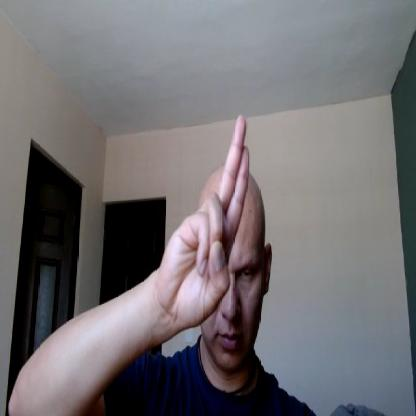U: (160, 112, 250, 328)
